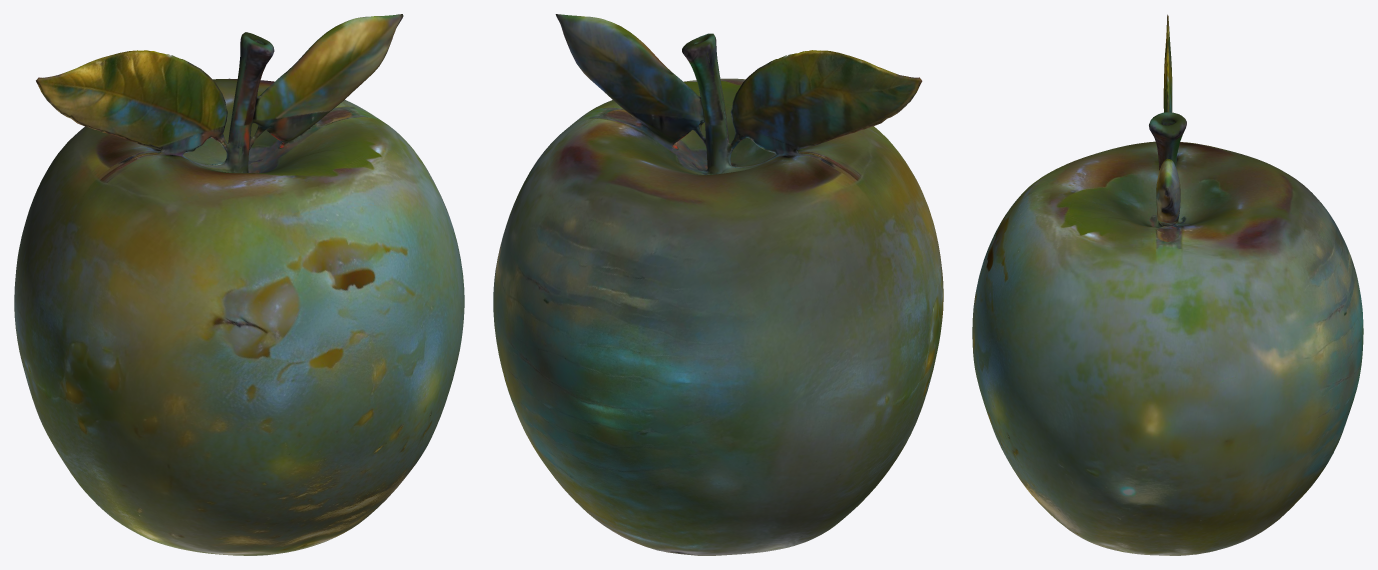
The picture shows the model from 3 angles, left to right: view 1: azimuth 30°, elevation 25°; view 2: azimuth 150°, elevation 25°; view 3: azimuth 270°, elevation 25°; orthographic projection. The views are drawn at different scales.
Parts seen in each view (by area): view 1: Mesh1.0; view 2: Mesh1.0; view 3: Mesh1.0.
Boxes of the visible parts, x1=… form: Mesh1.0: x1=14, y1=14, x2=464, y2=555; Mesh1.0: x1=493, y1=14, x2=943, y2=555; Mesh1.0: x1=972, y1=14, x2=1363, y2=555.
Size of the model in its own units: 167 by 199 by 166.
Materials: 1 (1 with a texture image).
